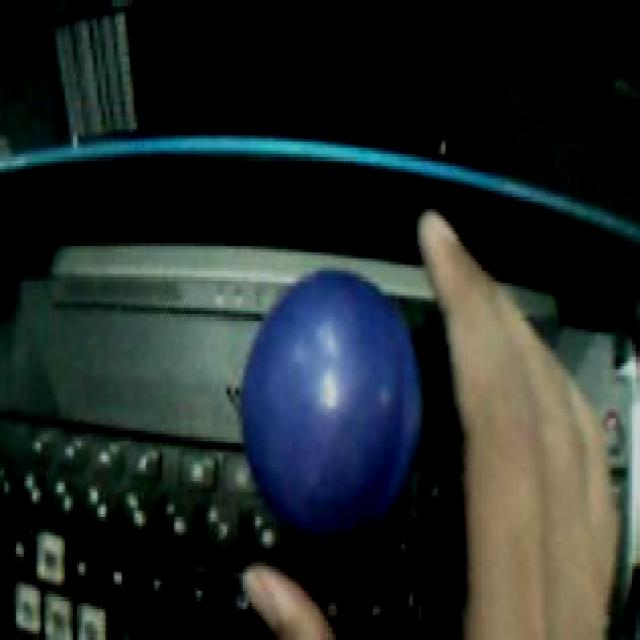BallPurple: (238, 269, 424, 544)
